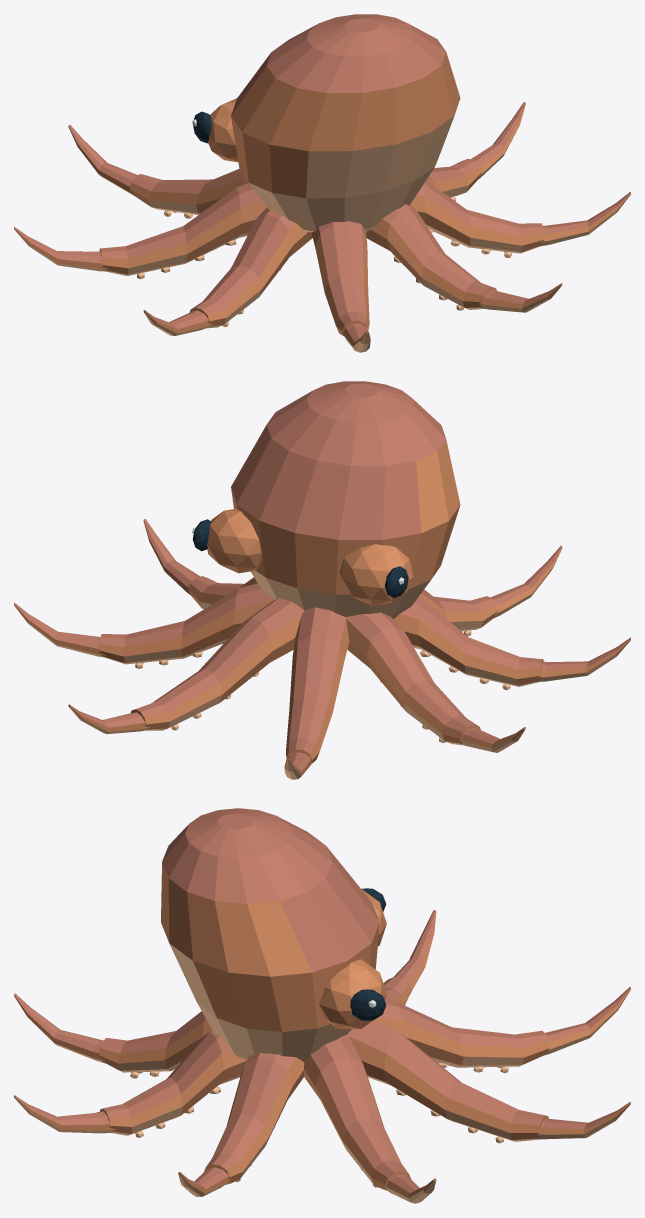
The model's file is wild_octopus.glb.
The picture shows the model from 3 angles, top to bottom: view 1: azimuth 30°, elevation 25°; view 2: azimuth 150°, elevation 25°; view 3: azimuth 270°, elevation 25°; orthographic projection. The views are drawn at different scales.
Visible parts, largest first — view 1: rounded mantle, tapered arm.006, tapered arm.005, tapered arm.003, tapered arm.004, tapered arm.002, tapered arm.007, tapered arm.001, curling tip.002, curling tip.006, curling tip.007, curling tip.003 (+3 smaller); view 2: rounded mantle, tapered arm, tapered arm.006, tapered arm.007, tapered arm.001, tapered arm.005, tapered arm.004, curling tip.005, curling tip.001, curling tip.004, curling tip.002, curling tip (+3 smaller); view 3: rounded mantle, tapered arm, tapered arm.001, tapered arm.002, tapered arm.003, tapered arm.007, tapered arm.004, curling tip.004, curling tip.003, curling tip.007, curling tip, curling tip.006 (+3 smaller).
Boxes of the visible parts, <box> form: rounded mantle: <box>192,14,460,232</box>; tapered arm.006: <box>99,183,266,279</box>; tapered arm.005: <box>189,207,312,328</box>; tapered arm.003: <box>366,204,496,310</box>; tapered arm.004: <box>311,221,369,336</box>; tapered arm.002: <box>410,180,543,257</box>; tapered arm.007: <box>130,169,248,218</box>; tapered arm.001: <box>426,158,481,201</box>; curling tip.002: <box>540,192,630,246</box>; curling tip.006: <box>14,226,109,271</box>; curling tip.007: <box>68,124,137,195</box>; curling tip.003: <box>479,283,562,312</box>; rounded mantle: <box>192,381,460,619</box>; tapered arm: <box>131,598,304,730</box>; tapered arm.006: <box>345,612,480,745</box>; tapered arm.007: <box>286,607,349,763</box>; tapered arm.001: <box>99,583,273,668</box>; tapered arm.005: <box>394,597,543,690</box>; tapered arm.004: <box>418,589,497,636</box>; curling tip.005: <box>536,637,630,681</box>; curling tip.001: <box>14,602,106,657</box>; curling tip.004: <box>490,545,562,618</box>; curling tip.002: <box>143,519,200,596</box>; curling tip: <box>68,704,150,734</box>; rounded mantle: <box>161,808,386,1061</box>; tapered arm: <box>347,1020,548,1143</box>; tapered arm.001: <box>304,1034,411,1190</box>; tapered arm.002: <box>204,1053,304,1184</box>; tapered arm.003: <box>100,1030,246,1137</box>; tapered arm.007: <box>374,998,549,1073</box>; tapered arm.004: <box>99,1011,212,1078</box>; curling tip.004: <box>14,993,105,1063</box>; curling tip.003: <box>14,1095,116,1133</box>; curling tip.007: <box>545,987,630,1054</box>; curling tip: <box>536,1102,630,1139</box>; curling tip.006: <box>394,910,436,994</box>.
Size of the model in its own units: 1.08 by 0.53 by 1.04.
